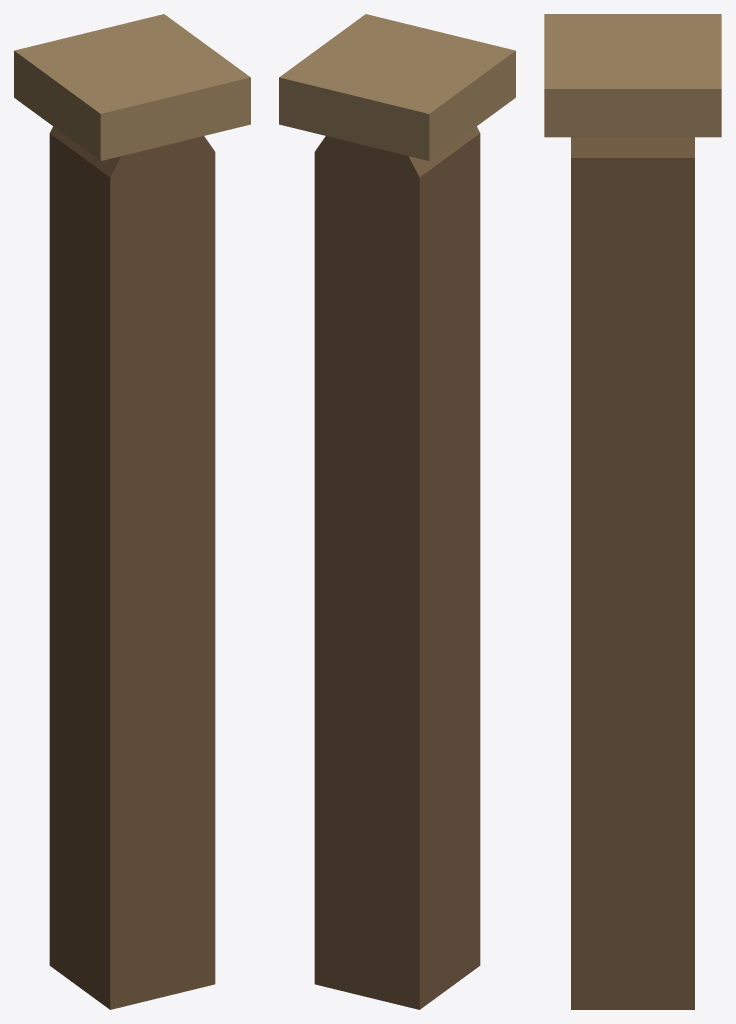
The model's file is TW_WOOD_END_CAP_A_LOD0.glb.
3 renders of one model, left to right at view 1: azimuth 30°, elevation 25°; view 2: azimuth 150°, elevation 25°; view 3: azimuth 270°, elevation 25°, orthographic. The views are drawn at different scales.
Visible parts, largest first — view 1: TW_WOOD_END_CAP_A_LOD0; view 2: TW_WOOD_END_CAP_A_LOD0; view 3: TW_WOOD_END_CAP_A_LOD0.
Part boxes in pixels (x1,y1,x2,y2): TW_WOOD_END_CAP_A_LOD0: (14,14,250,1009); TW_WOOD_END_CAP_A_LOD0: (279,14,515,1009); TW_WOOD_END_CAP_A_LOD0: (544,14,721,1009).
Size of the model in its own units: 0.2 by 1.16 by 0.2.
1 material, 1 textured.
